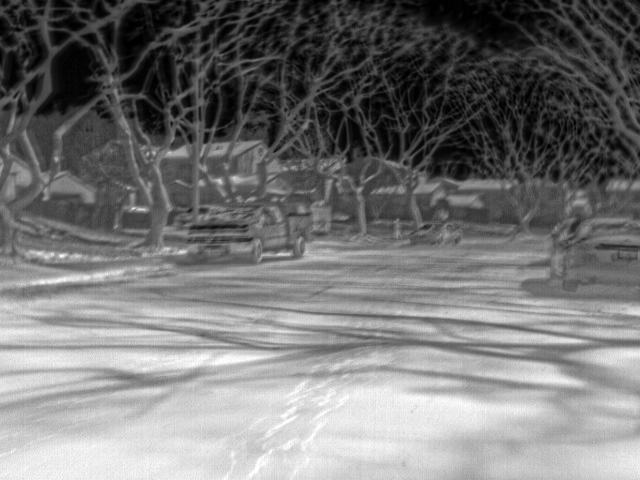car: (551, 215, 639, 301), (413, 222, 462, 248)
person: (389, 214, 403, 240)
